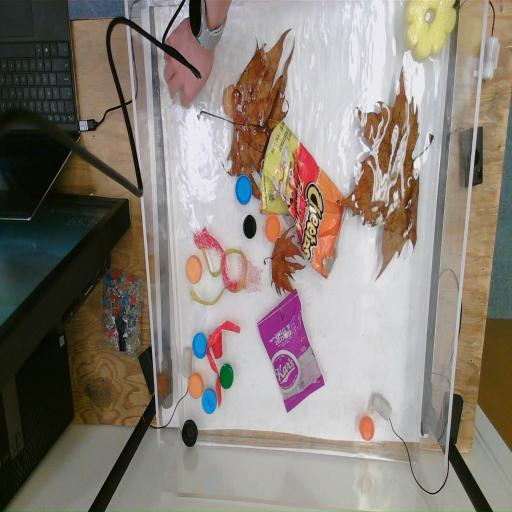Bottle Cap: (222, 84, 242, 118), (180, 418, 200, 448), (235, 176, 252, 204), (192, 331, 208, 359), (188, 372, 204, 400), (186, 256, 202, 284), (264, 214, 280, 242), (202, 388, 218, 414), (358, 415, 374, 441), (219, 364, 234, 390), (242, 214, 256, 240)
Cone Cap: (208, 328, 224, 358)
Leaf: (340, 64, 422, 284), (220, 28, 298, 201), (268, 224, 306, 298)
Netting: (192, 226, 237, 294), (236, 244, 264, 292)
Plastic Bag: (258, 109, 347, 280), (254, 289, 327, 414)
Plastic Strand: (188, 240, 248, 307), (204, 320, 240, 408)
Sponge: (405, 0, 458, 64)
